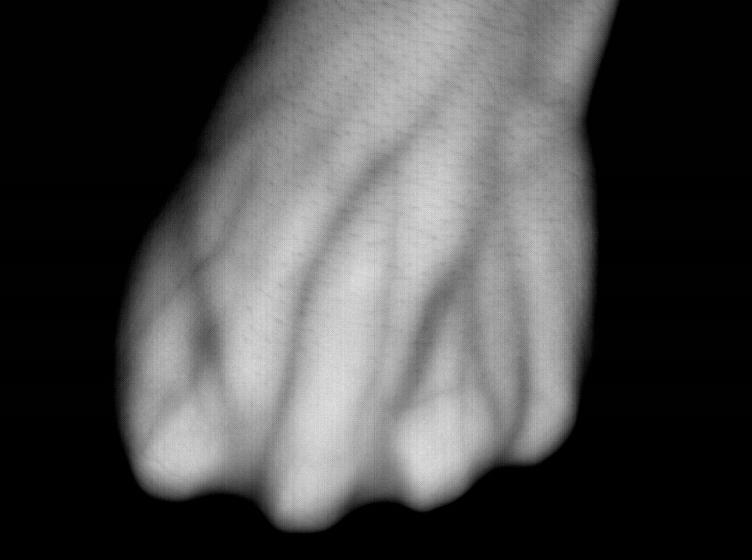Vein: (278, 151, 395, 402), (398, 165, 507, 399)
